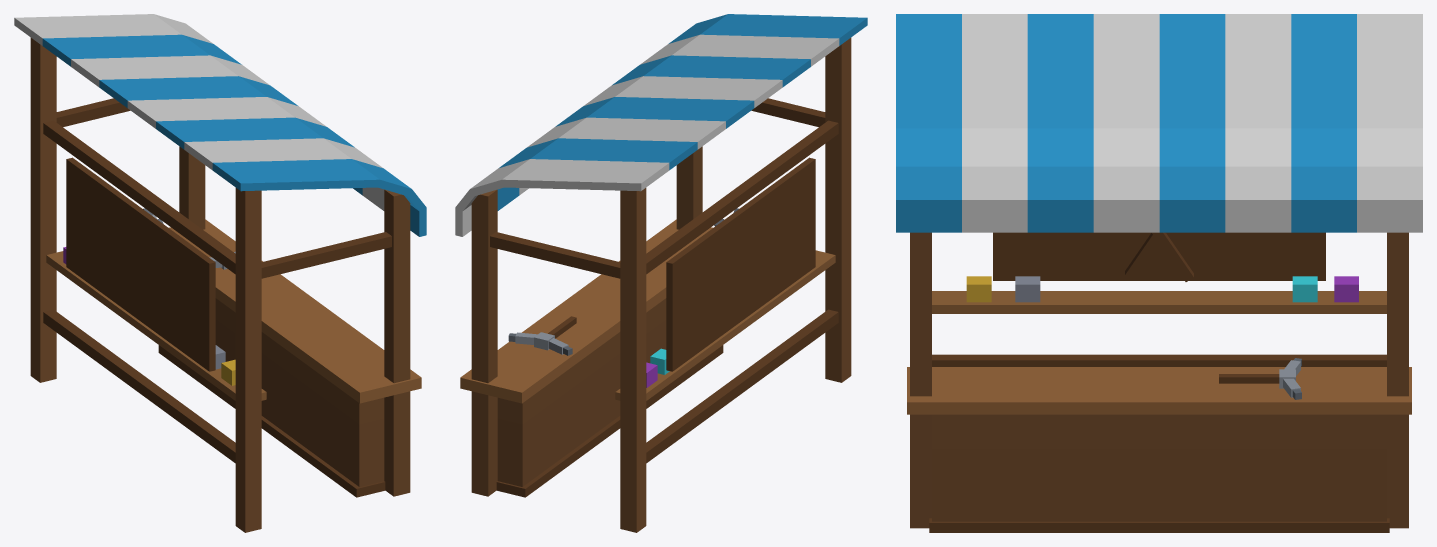
File: stall_pickaxe.glb
3 renders of one model, left to right at view 1: azimuth 30°, elevation 25°; view 2: azimuth 150°, elevation 25°; view 3: azimuth 270°, elevation 25°, orthographic. The views are drawn at different scales.
Parts seen in each view (by area): view 1: stall_pickaxe; view 2: stall_pickaxe; view 3: stall_pickaxe.
Boxes of the visible parts, <box> form: stall_pickaxe: <box>14,14,426,532</box>; stall_pickaxe: <box>455,14,867,532</box>; stall_pickaxe: <box>896,14,1422,532</box>.
Size of the model in its own units: 1.8 by 3.3 by 3.8.
